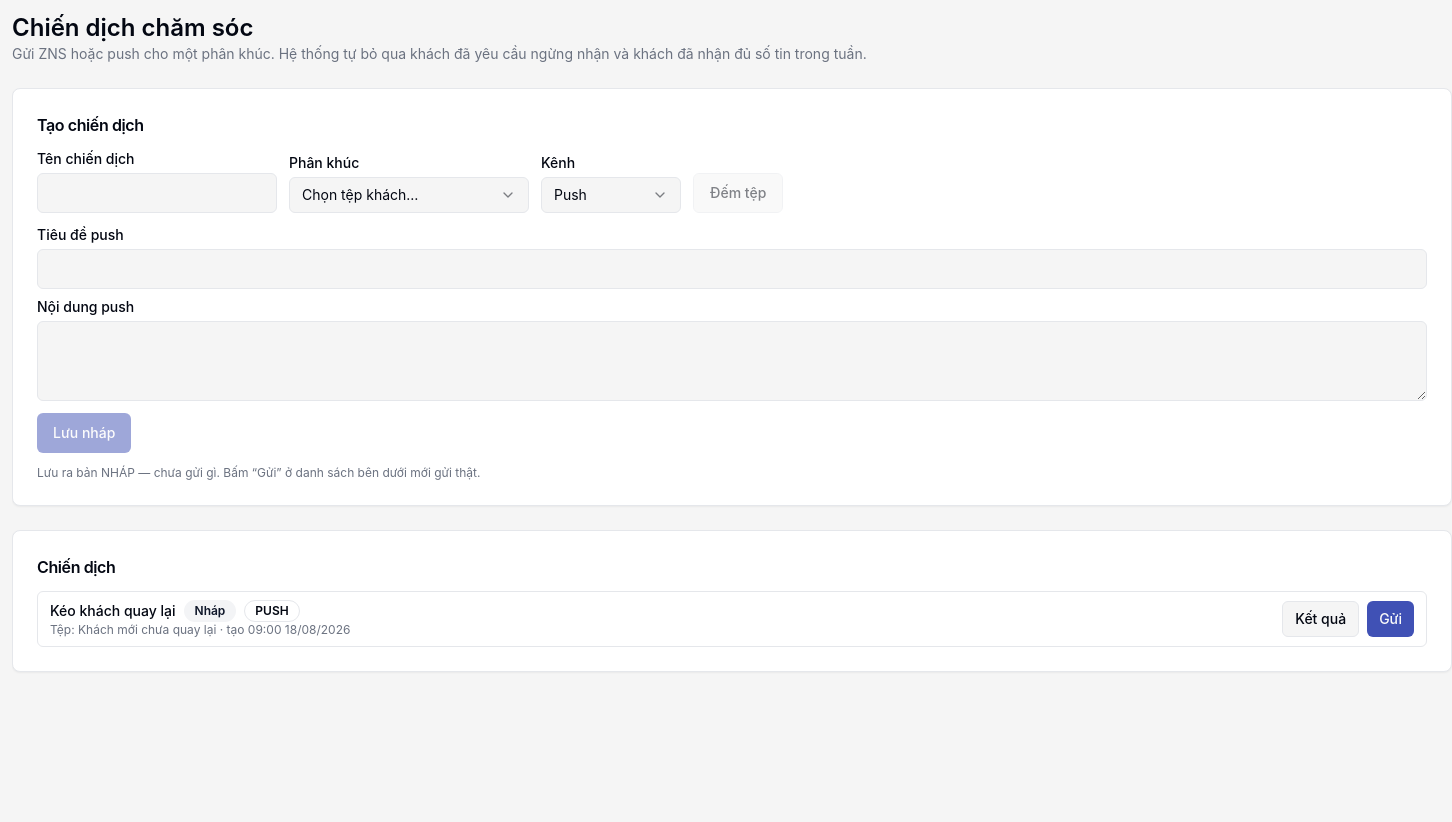
Test: /crm-campaigns — gửi ra ngoài › gửi xong báo ĐANG GỬI TRONG NỀN và mở khối kết quả, không báo số đã gửi
Click the button "Gửi" at (1391, 619), box [1367,601,1414,637]
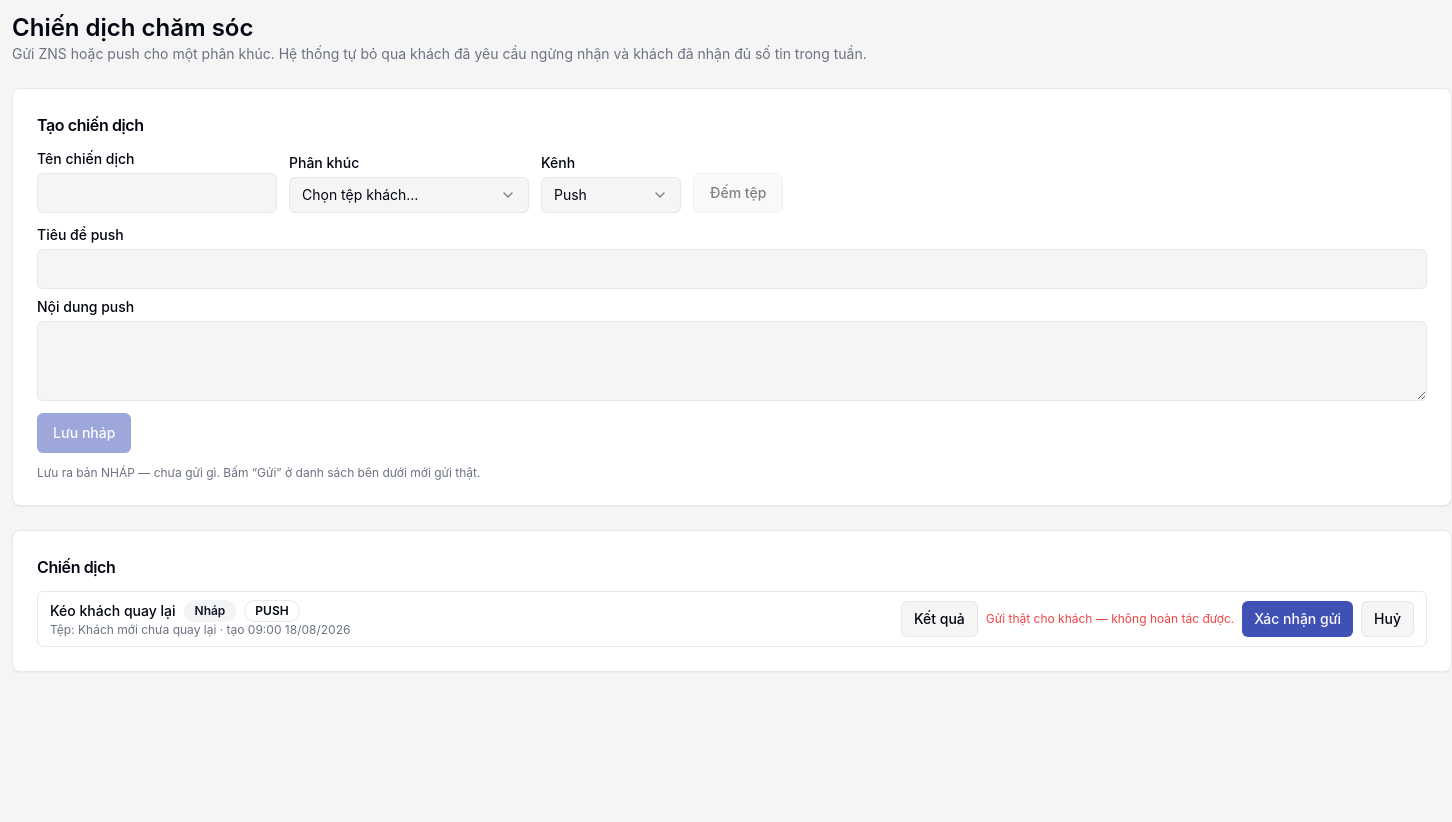
Click the button "Xác nhận gửi" at (1298, 619), box [1242,601,1353,637]
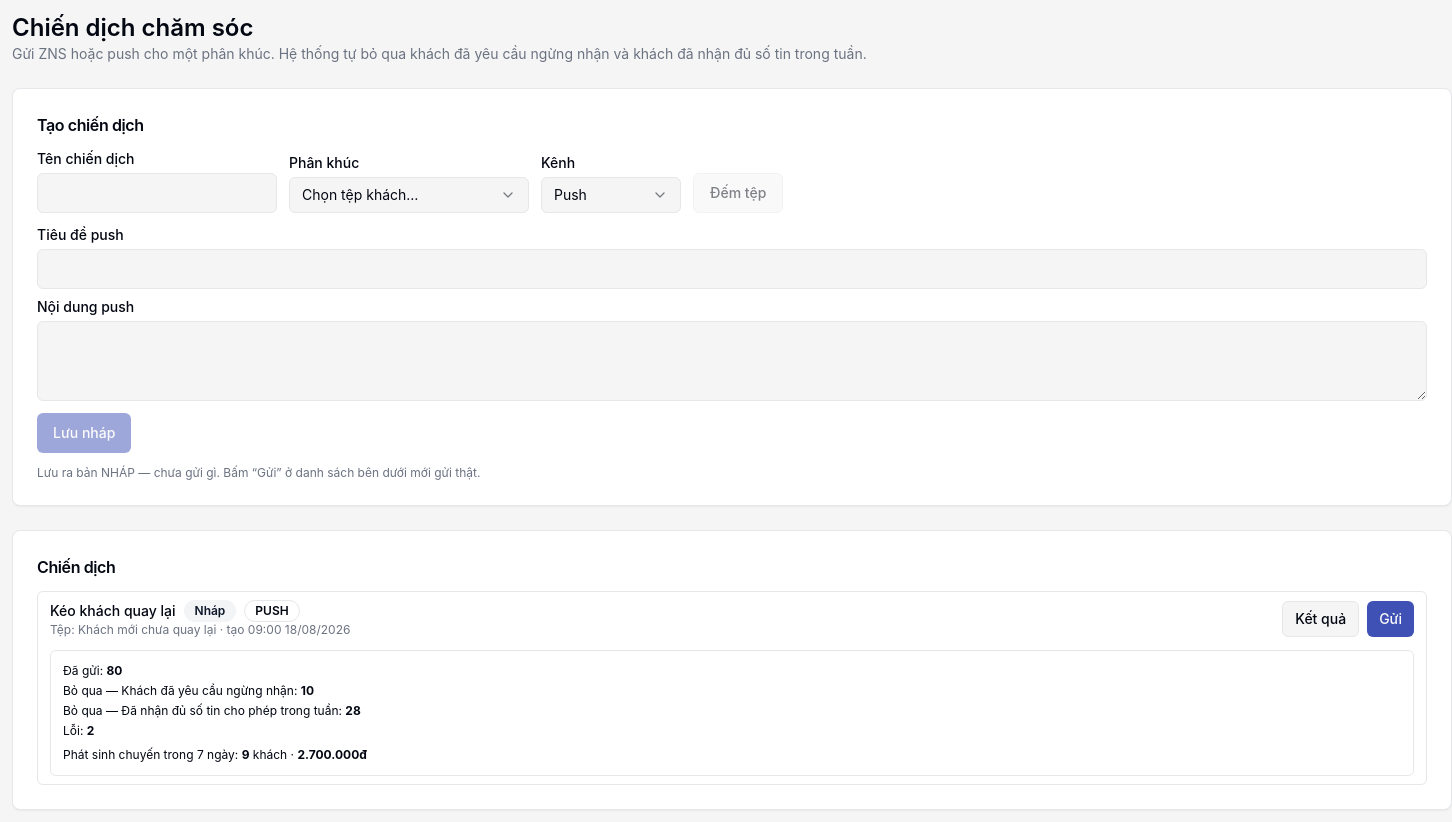
Now the element with test id "crm-campaign-stats" is shown, box [50,650,1414,776]
